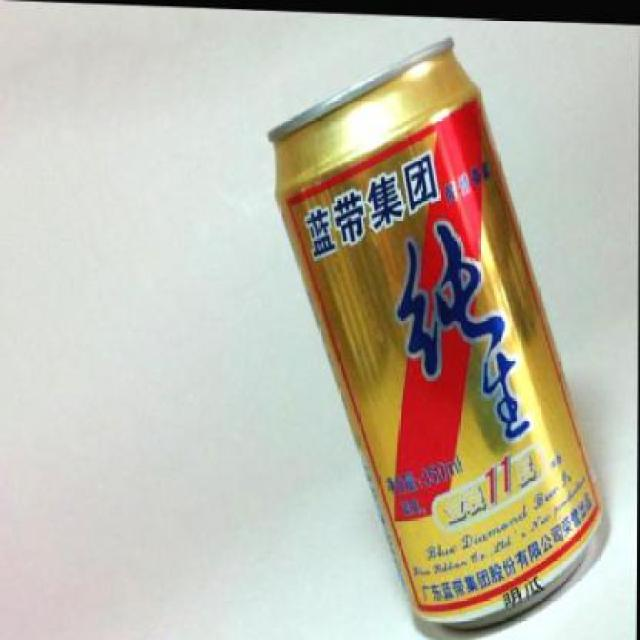Metal: (267, 32, 606, 639)
